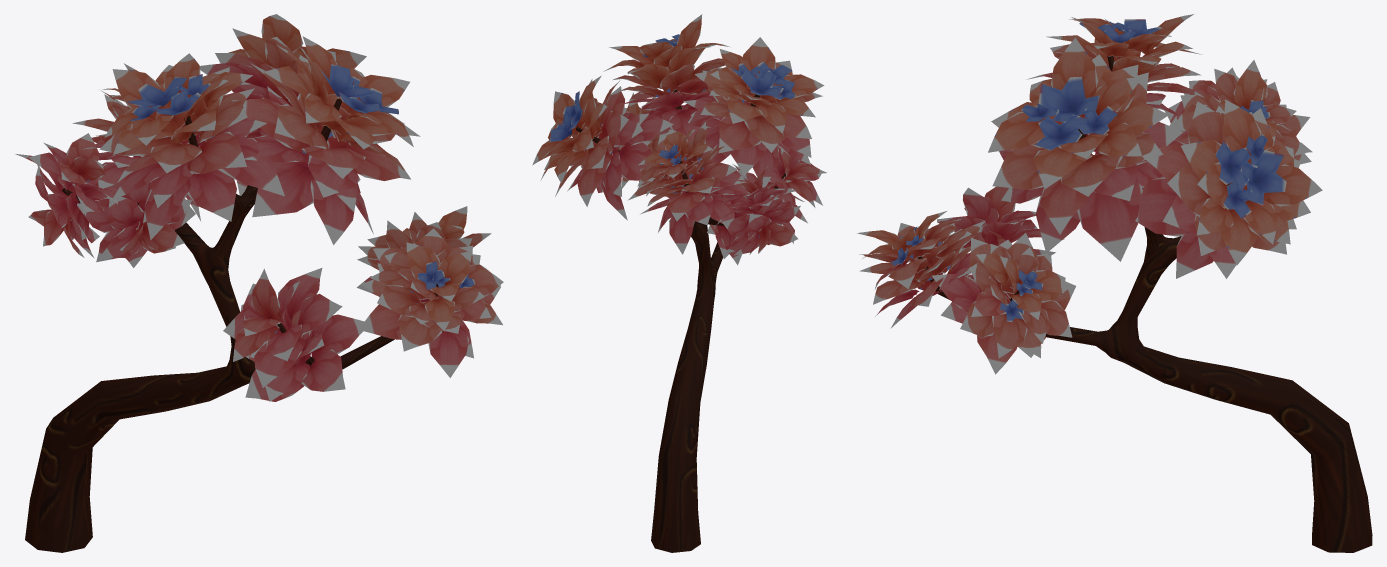
File: Forest_Trees_Pink_1.glb
3 views of the same model, side by side, from view 1: azimuth 30°, elevation 25°; view 2: azimuth 150°, elevation 25°; view 3: azimuth 270°, elevation 25° (orthographic). The views are drawn at different scales.
Visible parts, largest first — view 1: Object_36.001; view 2: Object_36.001; view 3: Object_36.001.
Boxes of the visible parts, x1,y1,x2,y2 form: Object_36.001: [15, 14, 503, 552]; Object_36.001: [532, 14, 826, 552]; Object_36.001: [857, 14, 1372, 552].
Bounding box in the file's own units: 108 × 172 × 146.
